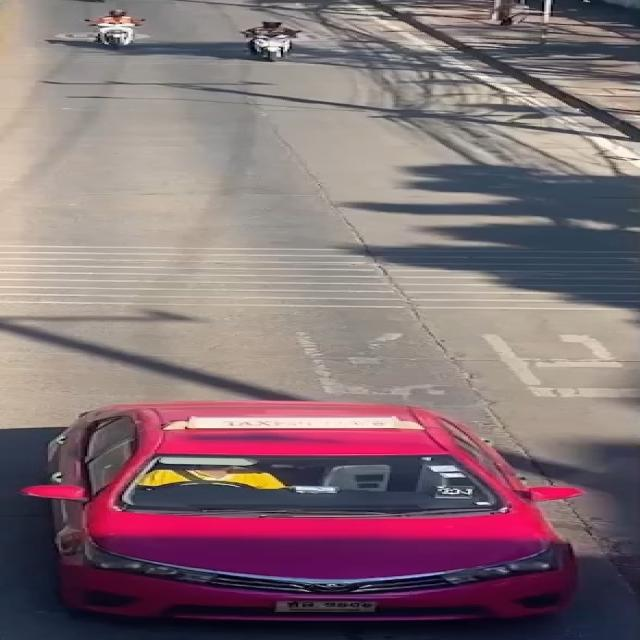car: (6, 394, 640, 640)
